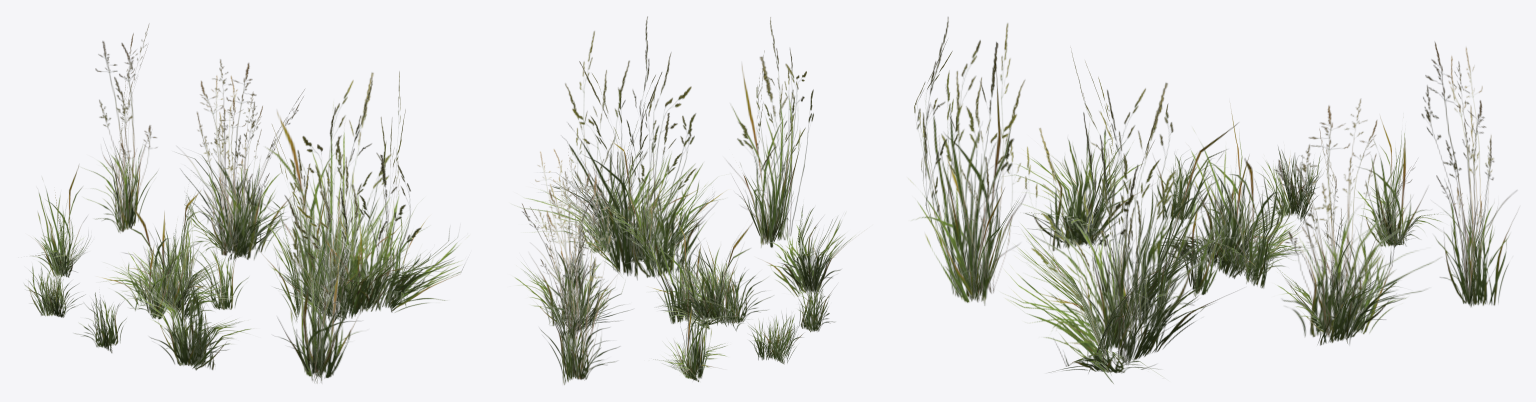
File: bush.glb
3 renders of one model, left to right at view 1: azimuth 30°, elevation 25°; view 2: azimuth 150°, elevation 25°; view 3: azimuth 270°, elevation 25°, orthographic. The views are drawn at different scales.
Visible parts, largest first — view 1: bush; view 2: bush; view 3: bush.
Part boxes in pixels (x1,y1,x2,y2): bush: [24, 23, 469, 383]; bush: [510, 16, 869, 385]; bush: [907, 16, 1519, 384].
Size of the model in its own units: 2.47 by 1.6 by 2.82.
1 material, 1 textured.
